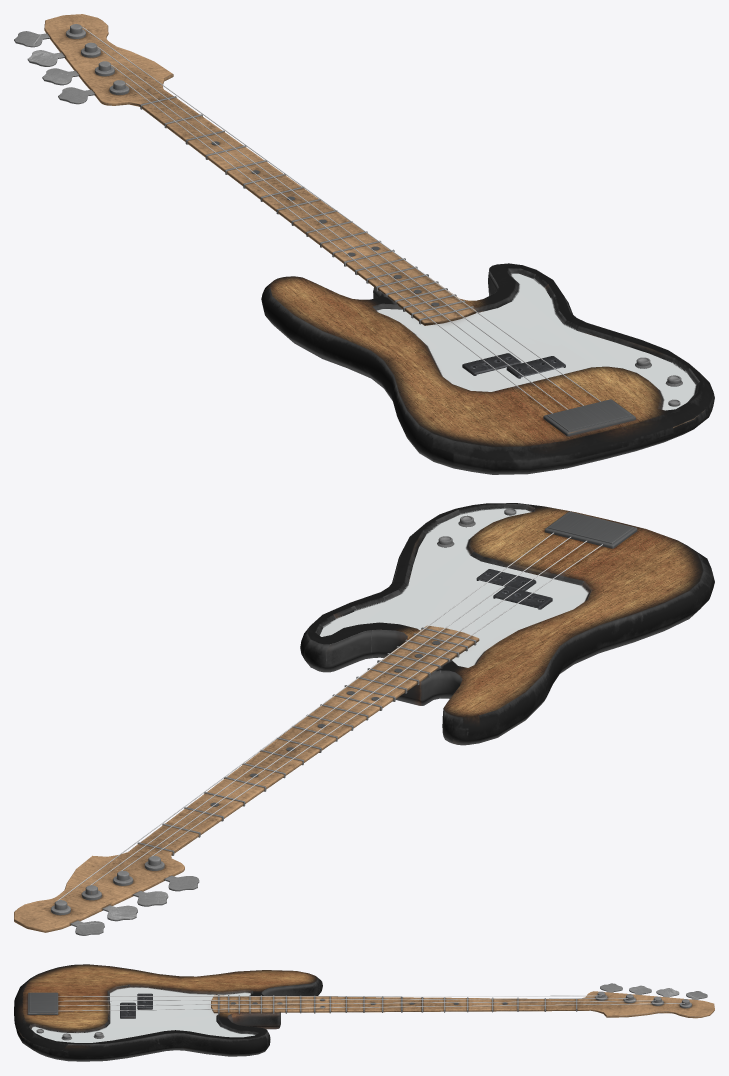
The model's file is Electrical_Bass_Guitar.glb.
3 views of the same model, one above another, from view 1: azimuth 30°, elevation 25°; view 2: azimuth 150°, elevation 25°; view 3: azimuth 270°, elevation 25° (orthographic). The views are drawn at different scales.
Parts seen in each view (by area): view 1: Cube_guitar_0, Cube.001_guitar_0, Vert.001_guitar_0, Cube.003_guitar_0, Cube.002_guitar_0, Cube.005_guitar_0, Cube.004_guitar_0; view 2: Cube_guitar_0, Cube.001_guitar_0, Vert.001_guitar_0, Cube.003_guitar_0, Cube.002_guitar_0, Cube.004_guitar_0, Cube.005_guitar_0; view 3: Cube_guitar_0, Cube.001_guitar_0, Vert.001_guitar_0, Cube.002_guitar_0, Cube.003_guitar_0, Cube.004_guitar_0, Cube.005_guitar_0.
Part boxes in pixels (bbox=[...]): Cube_guitar_0: bbox=[261, 263, 714, 474]; Cube.001_guitar_0: bbox=[44, 14, 476, 325]; Vert.001_guitar_0: bbox=[82, 27, 600, 413]; Cube.003_guitar_0: bbox=[140, 96, 473, 324]; Cube.002_guitar_0: bbox=[543, 399, 635, 436]; Cube.005_guitar_0: bbox=[506, 356, 565, 378]; Cube.004_guitar_0: bbox=[462, 353, 521, 375]; Cube_guitar_0: bbox=[300, 503, 714, 745]; Cube.001_guitar_0: bbox=[14, 625, 479, 932]; Vert.001_guitar_0: bbox=[57, 532, 602, 900]; Cube.003_guitar_0: bbox=[137, 627, 476, 855]; Cube.002_guitar_0: bbox=[544, 511, 637, 548]; Cube.004_guitar_0: bbox=[493, 586, 552, 609]; Cube.005_guitar_0: bbox=[476, 569, 536, 590]; Cube_guitar_0: bbox=[14, 964, 322, 1061]; Cube.001_guitar_0: bbox=[211, 991, 714, 1018]; Vert.001_guitar_0: bbox=[58, 995, 684, 1011]; Cube.002_guitar_0: bbox=[27, 992, 58, 1014]; Cube.003_guitar_0: bbox=[218, 995, 577, 1013]; Cube.004_guitar_0: bbox=[137, 993, 152, 1009]; Cube.005_guitar_0: bbox=[120, 1002, 135, 1018].
Size of the model in its own units: 1.4 by 0.184 by 4.95.
Materials: 1 (1 with a texture image).
